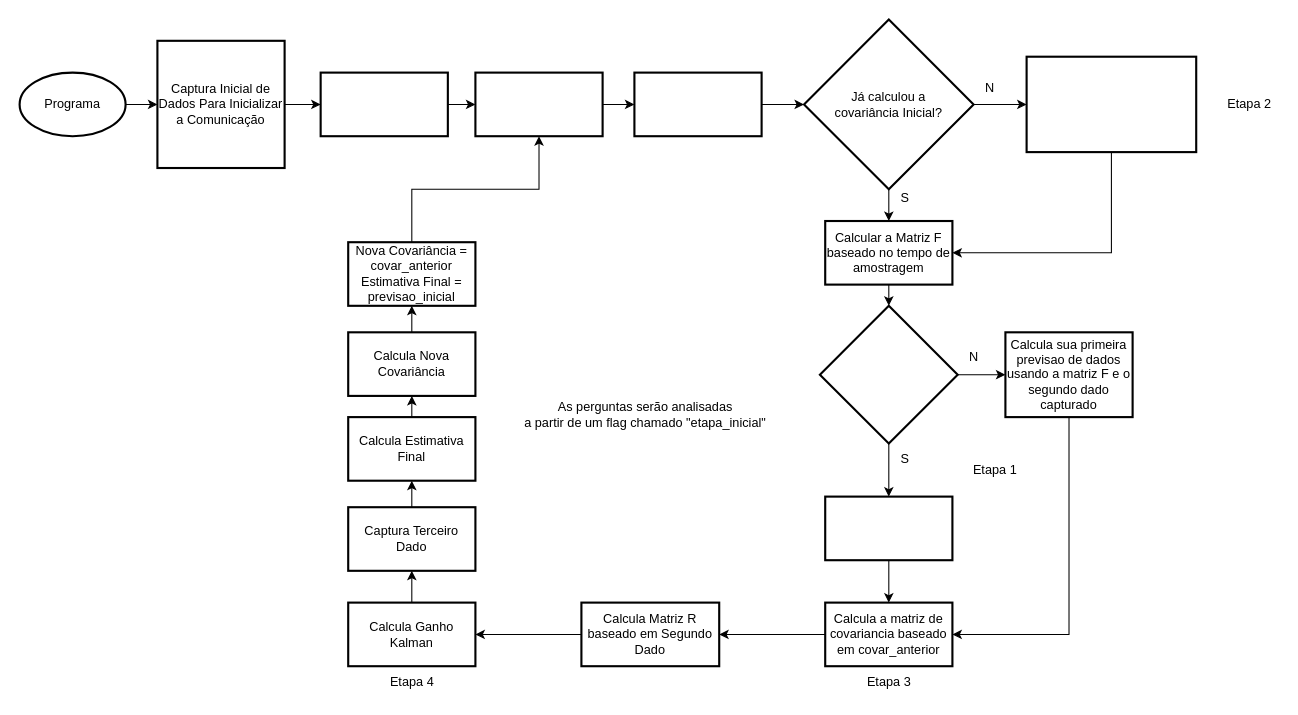
Some shapes in this 1298 by 715 pixel diagram are drawn without their labels. Here are the shapes that lost their labels. From the top down, the centre of each, then its label:
the point at 383,104: Captura Primeiro Dado
the point at 538,104: Captura Segundo Dado
the point at 697,104: Calcula o Tempo de Amostragem baseado no primeiro e no segundo dado
the point at 1111,104: Calcula a covariância inicial baseada no segundo dado (Variável covar_anterior)
the point at 888,374: Já calculou a previsão inicial dos dados?
the point at 888,528: Calcula previsao de dados usando a matriz F e "previsao_inicial"
